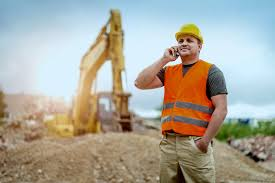hard hat: (174, 22, 204, 42)
high-vis: (161, 60, 216, 135)
